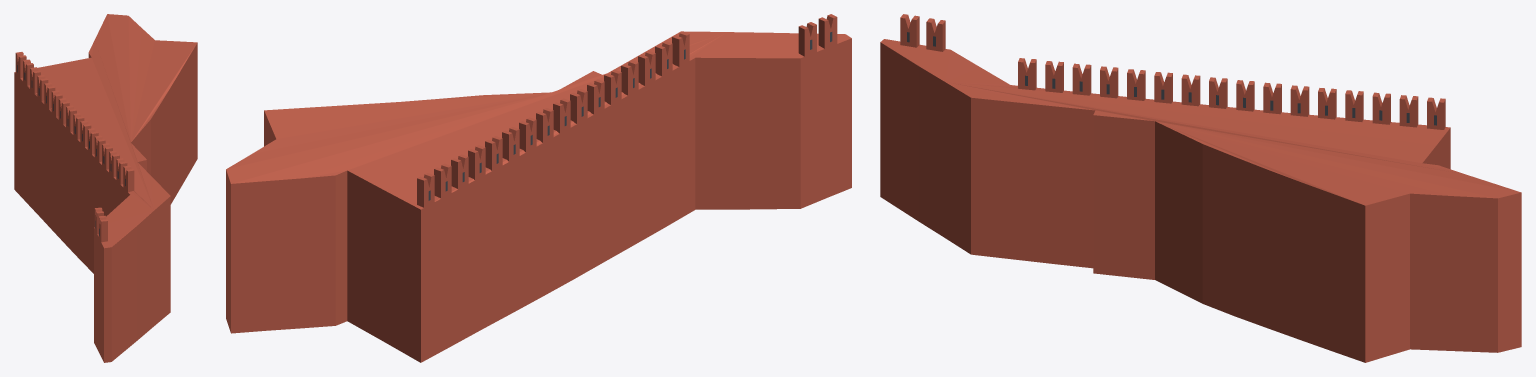
File: moscow-kremlin-wall-armoury-borovitskaya.glb
3 views of the same model, side by side, from view 1: azimuth 30°, elevation 25°; view 2: azimuth 150°, elevation 25°; view 3: azimuth 270°, elevation 25° (orthographic). The views are drawn at different scales.
Visible parts, largest first — view 1: Kremlin Wall, Armoury Tower to Borovitskaya Tower; view 2: Kremlin Wall, Armoury Tower to Borovitskaya Tower; view 3: Kremlin Wall, Armoury Tower to Borovitskaya Tower.
Part boxes in pixels (x1,y1,x2,y2): Kremlin Wall, Armoury Tower to Borovitskaya Tower: (14, 14, 197, 362); Kremlin Wall, Armoury Tower to Borovitskaya Tower: (226, 14, 851, 362); Kremlin Wall, Armoury Tower to Borovitskaya Tower: (880, 14, 1521, 362).
Size of the model in its own units: 30.64 by 15.76 by 46.4.
